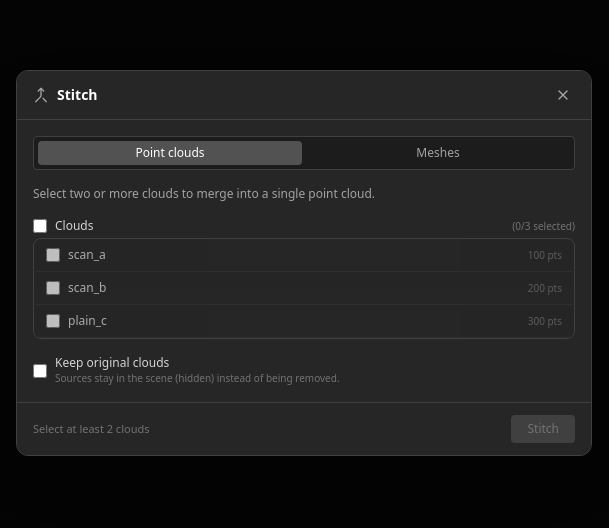
it: StitchDialog mesh mode › opens on clouds by default and switches to meshes with the toggle
Click the button "Meshes". click: (438, 153)
box: x1=306 y1=141 x2=570 y2=165
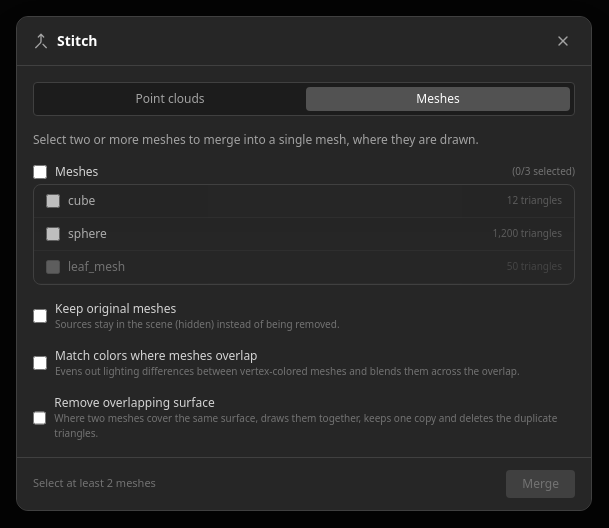
Check: the element with test id "stitch-mesh-picker" shows "1,200 triangles", box x1=493 y1=226 x2=562 y2=240
Check: the element with test id "stitch-picker" is gone
Check: the label with test id "stitch-retain-originals" shows "Keep original meshes", box x1=33 y1=300 x2=340 y2=330
